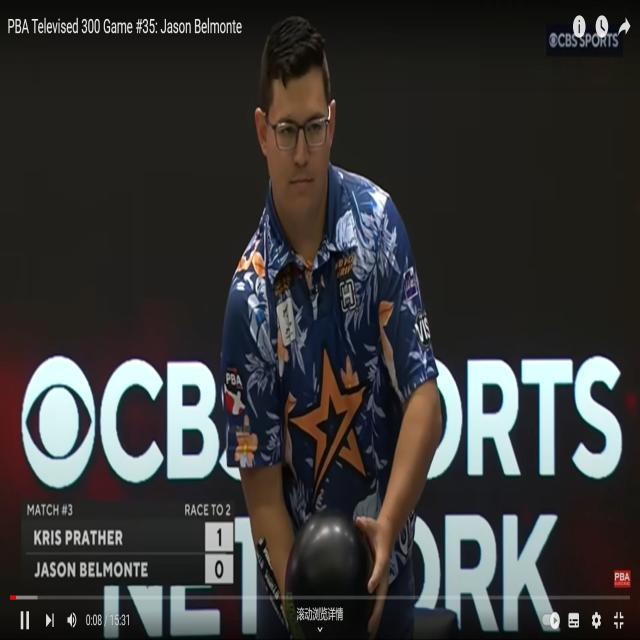balls: (283, 509, 376, 639)
